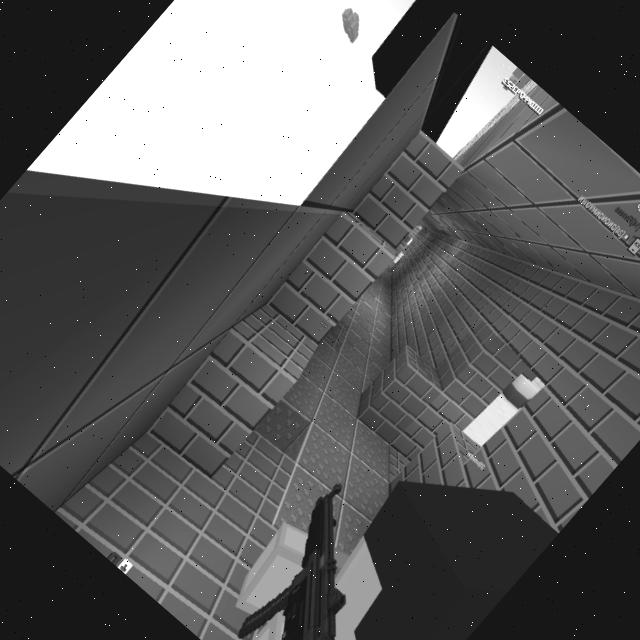Head: (251, 434, 559, 640)
Player: (197, 397, 560, 640)
